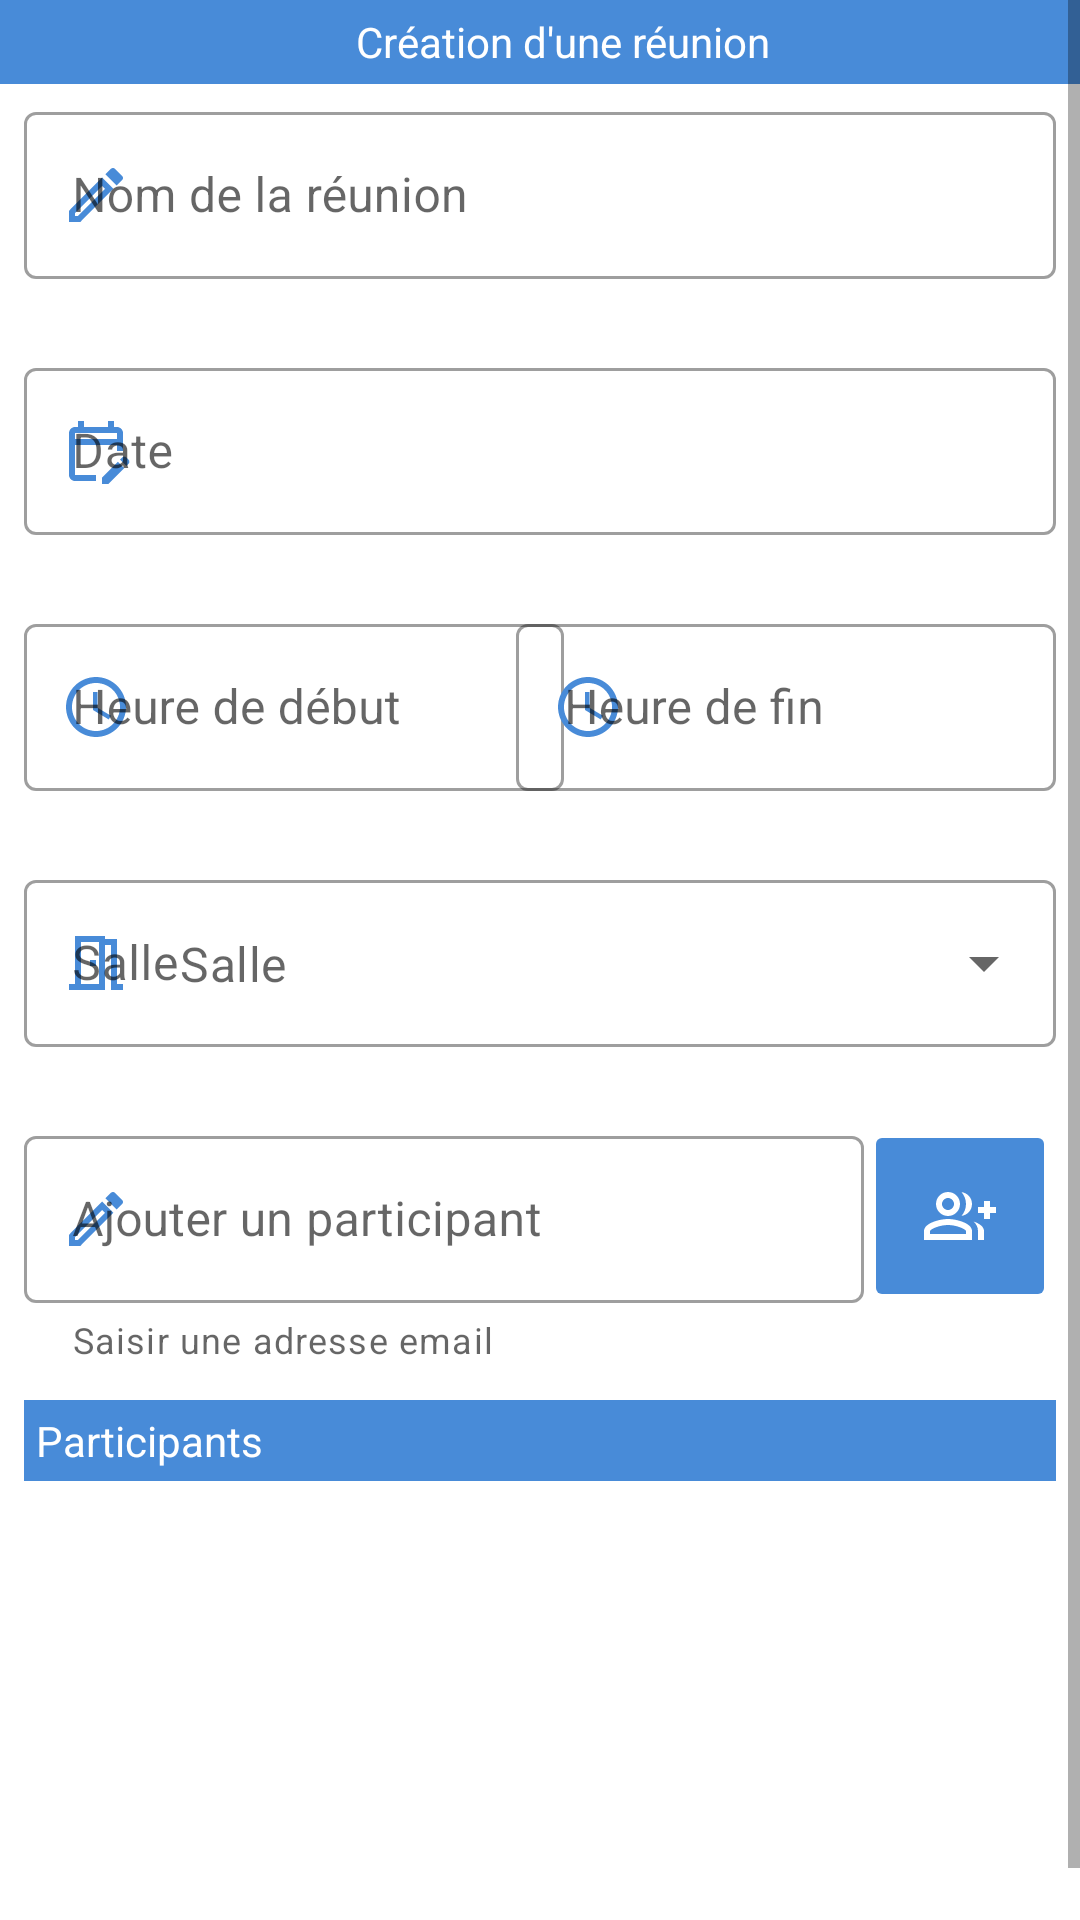

Point at icon controls on the screen. Image size 1080x1920, points as (x,y).
group add: (960,1216)
